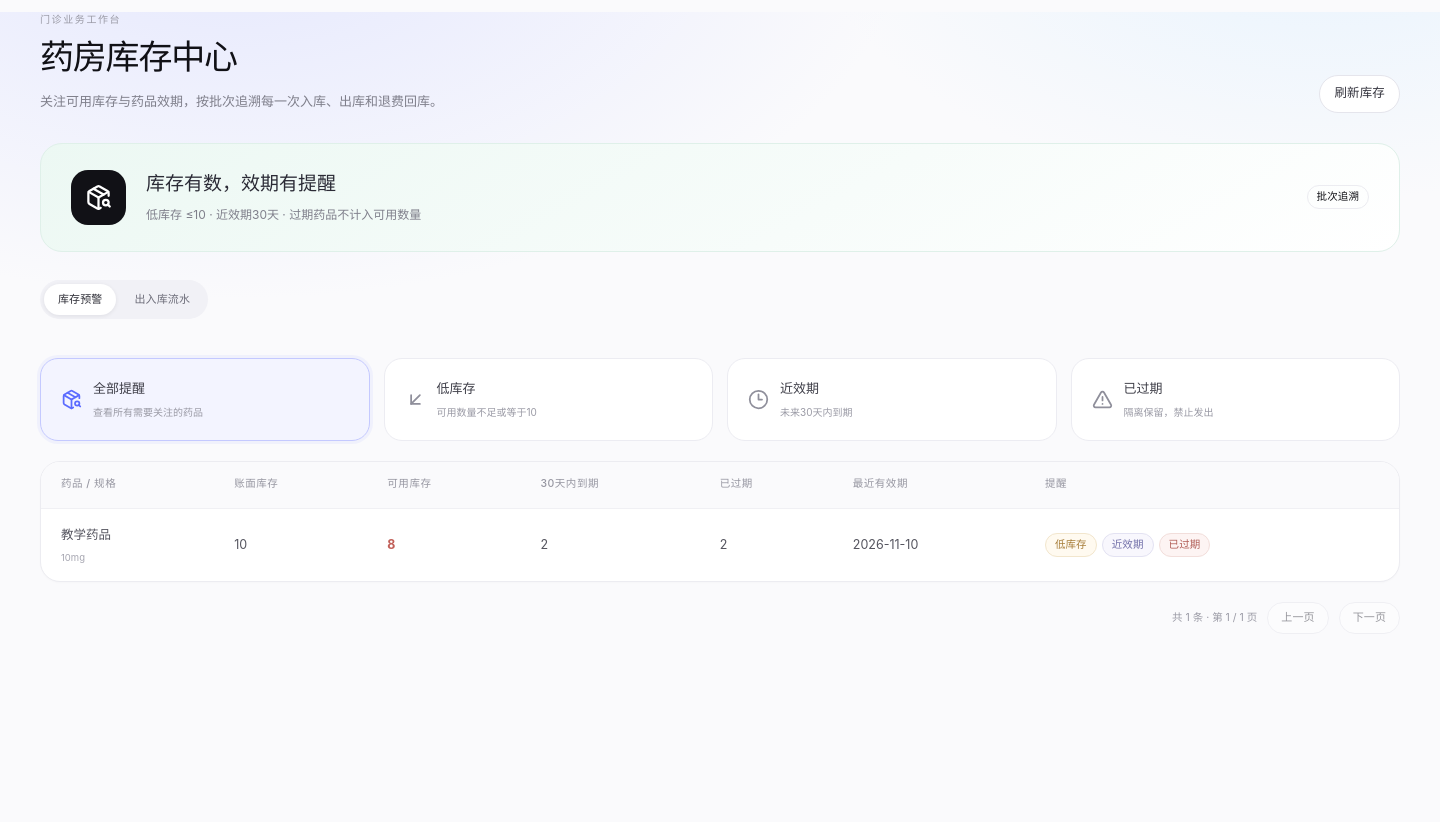
visible outpatient enhancements › switches between stock alerts and batch movement history
Expected: the text "教学药品" is shown, left=61, top=526, right=111, bottom=542
Click the button "近效期 未来30天内到期" at (800, 388), box left=727, top=358, right=1056, bottom=441
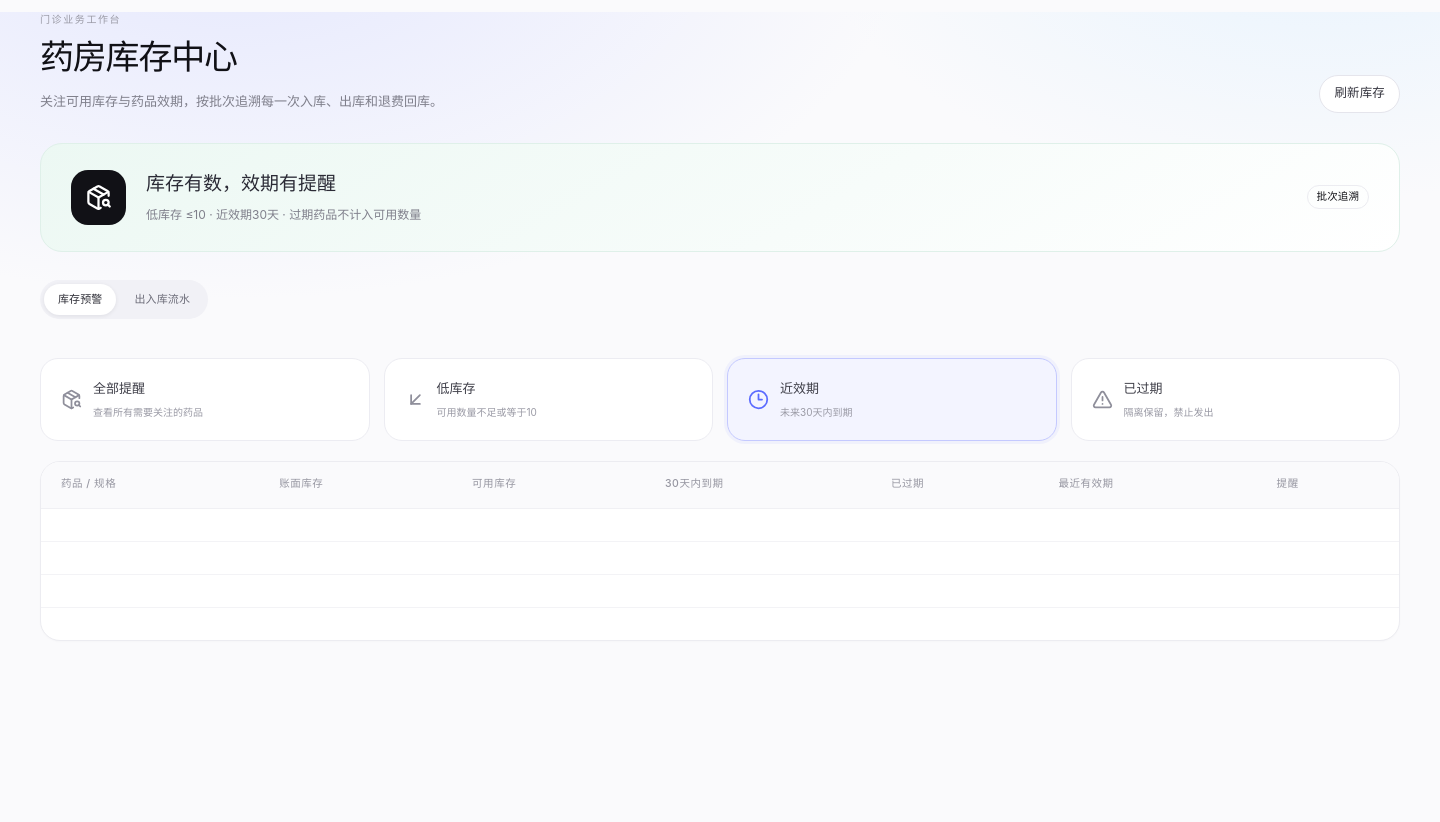
Click the button "出入库流水" at (162, 299), box left=120, top=284, right=204, bottom=314
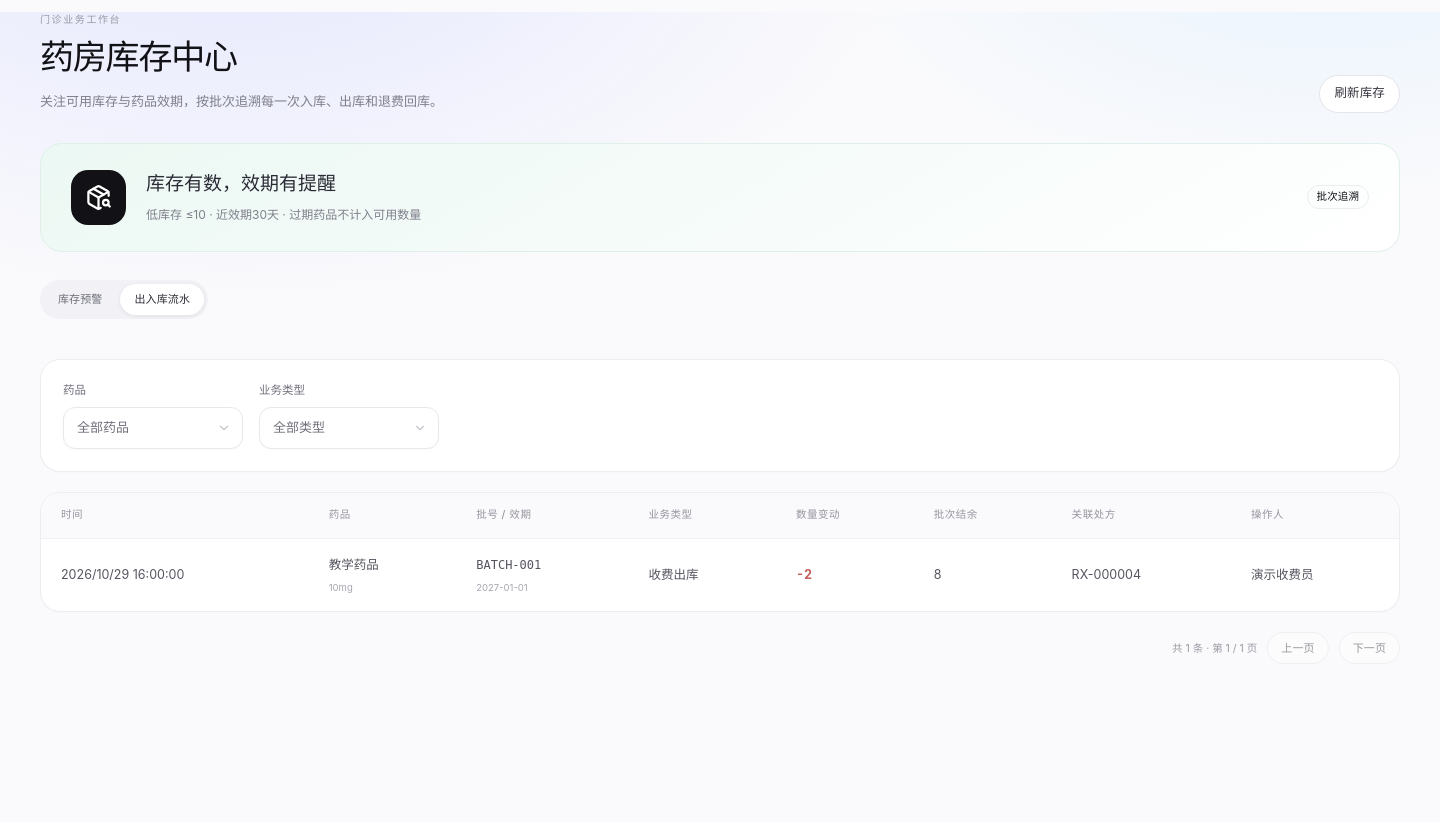
Expected: the text "BATCH-001" is shown, left=476, top=558, right=541, bottom=572
Expected: the text "-2" is shown, left=796, top=567, right=812, bottom=582
Expected: the cell "收费出库" is shown, left=628, top=539, right=776, bottom=612
